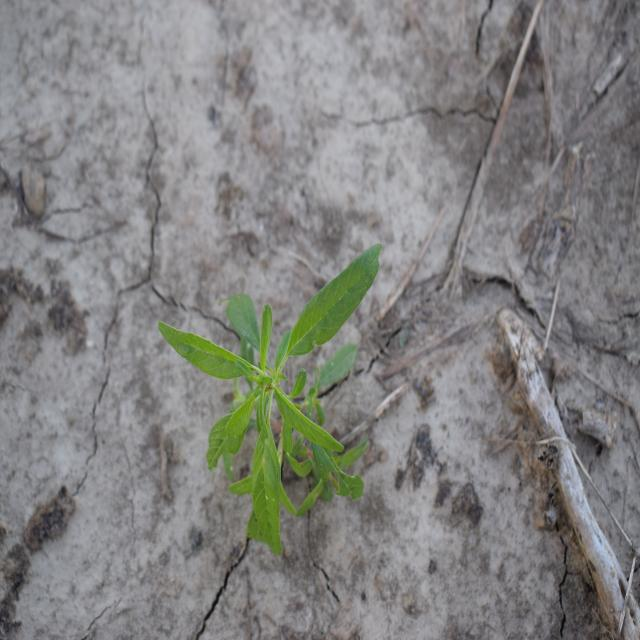Waterhemp: (156, 241, 385, 557)
